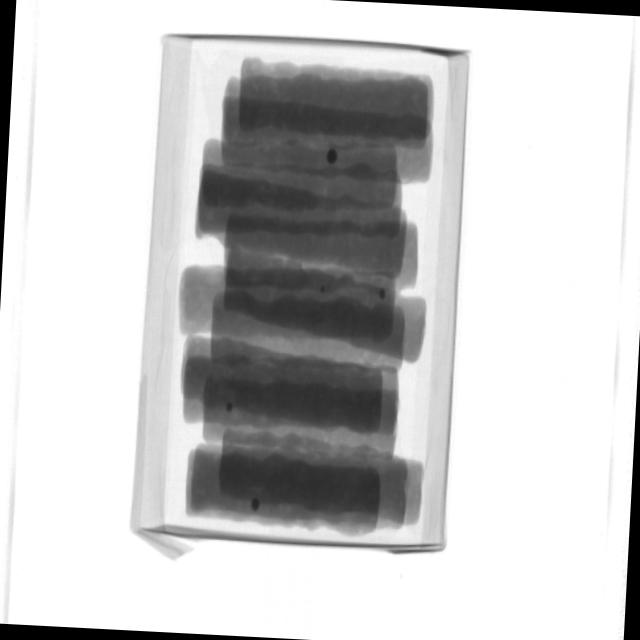ym: (327, 149, 339, 165), (253, 499, 263, 512), (228, 404, 236, 414), (381, 291, 388, 299), (322, 285, 327, 295)
